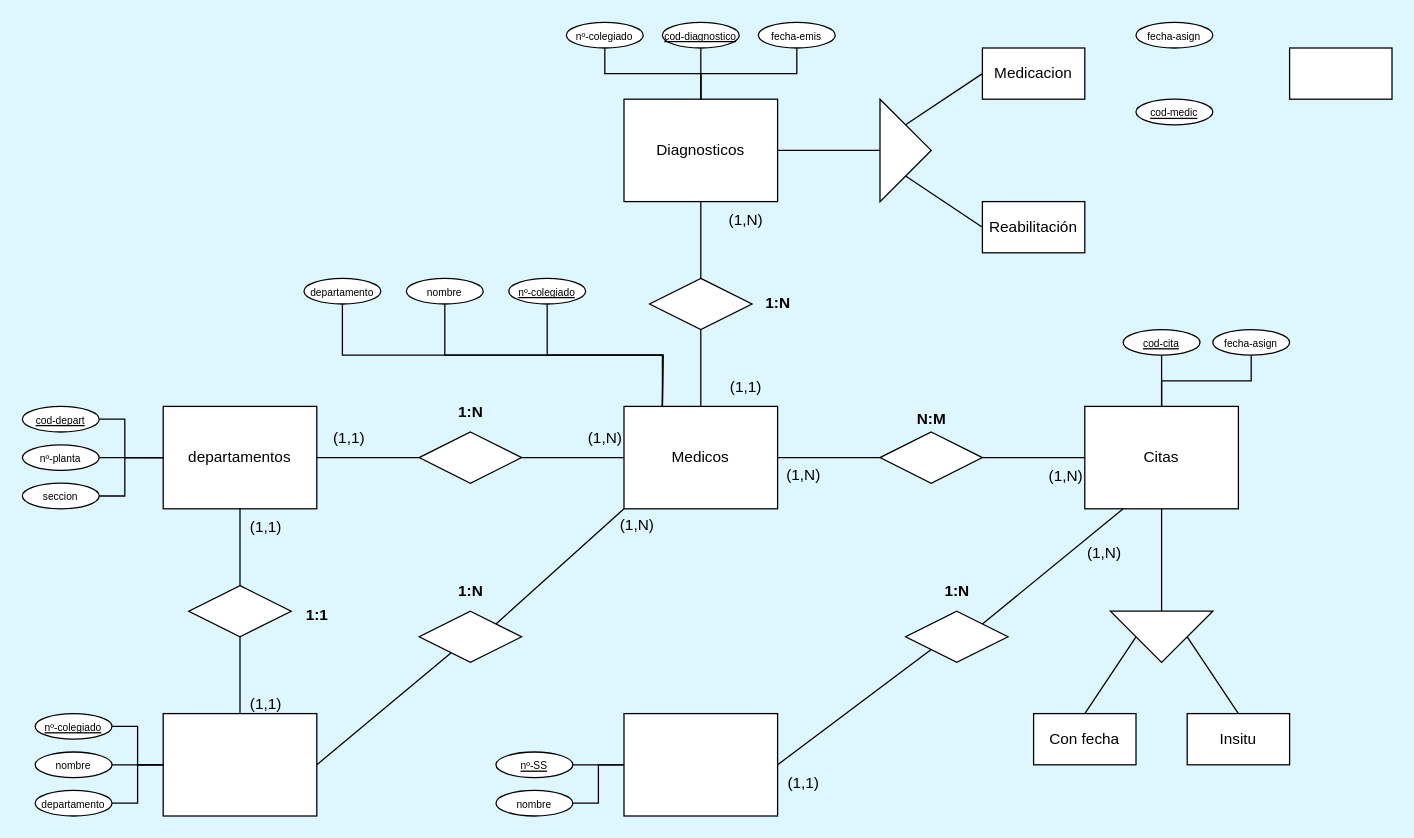
The diagram is 1414 pixels wide and 838 high, and some of its shapes have lost their labels. The centre of each missing label's shape, as x and y in pixels:
"dirige" belongs at (239,610).
"emite" belongs at (700,303).
"Jefe departamento" belongs at (239,764).
"Medicamento" belongs at (1340,73).
"Pacientes" belongs at (700,764).
"programa" belongs at (930,457).
"supervisa" belongs at (470,636).
"tiene" belongs at (956,636).
"trabaja" belongs at (470,457).
